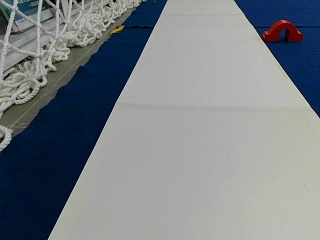bridge: (263, 20, 302, 41)
